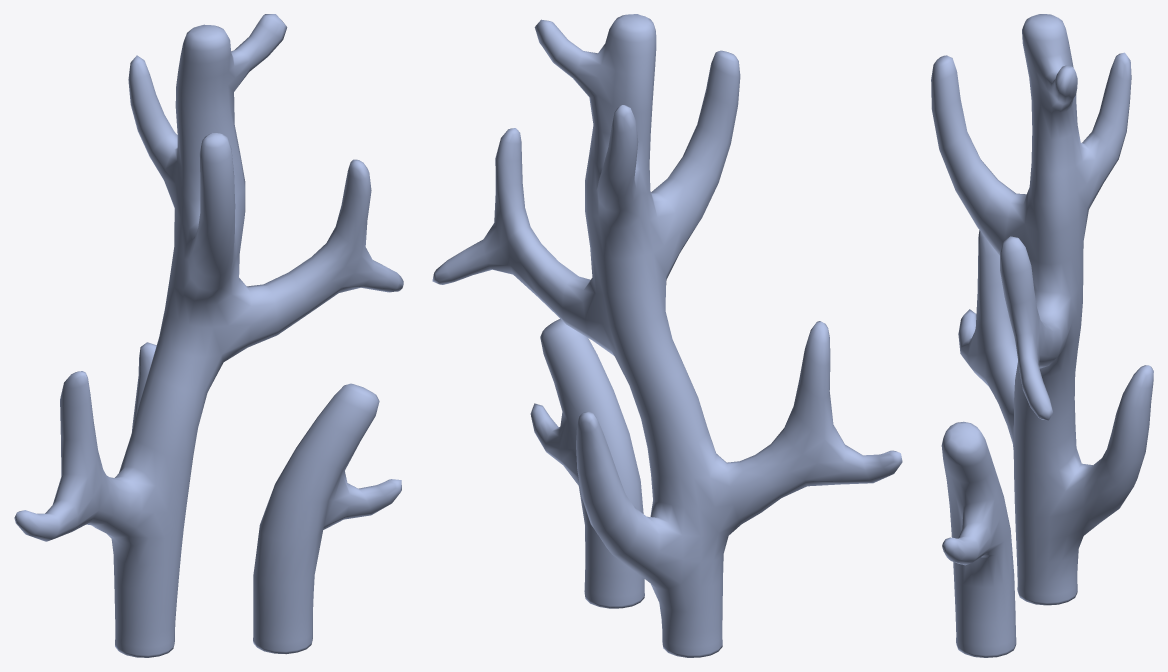
File: Coral_B_02.fbx
The picture shows the model from 3 angles, left to right: view 1: azimuth 30°, elevation 25°; view 2: azimuth 150°, elevation 25°; view 3: azimuth 270°, elevation 25°; orthographic projection.
Parts seen in each view (by area): view 1: Coral_B_02_LOD0; view 2: Coral_B_02_LOD0; view 3: Coral_B_02_LOD0.
Part boxes in pixels (left/top/right/bottom): Coral_B_02_LOD0: left=14, top=14, right=403, bottom=657; Coral_B_02_LOD0: left=432, top=14, right=902, bottom=657; Coral_B_02_LOD0: left=931, top=14, right=1153, bottom=657.
Size of what is drawn, in the model's own units: 704 by 958 by 320.
